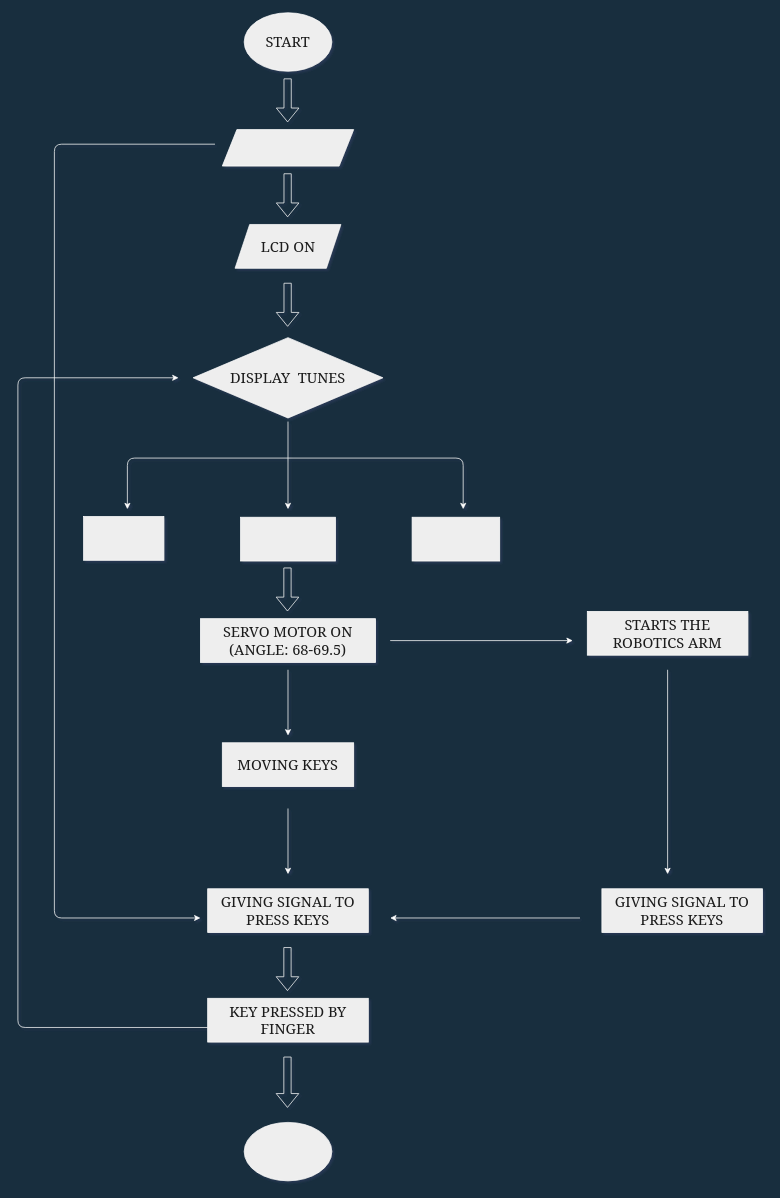
Image size: 780x1198. Some labels were removed from this diagram. Each missing label, with the centre of its shape:
"ARDUINO ON" goes at (x=288, y=147).
"END" goes at (x=287, y=1151).
"TUNE 1" goes at (x=123, y=538).
"TUNE 2" goes at (x=287, y=538).
"TUNE 3" goes at (x=455, y=538).
